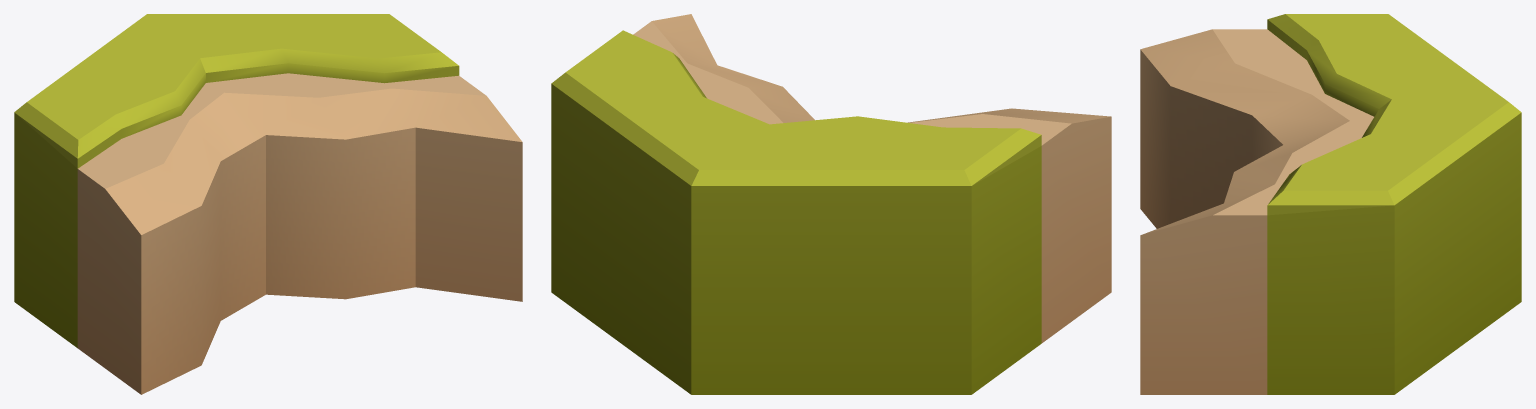
The model's file is hex_coast_B_waterless.glb.
3 renders of one model, left to right at view 1: azimuth 30°, elevation 25°; view 2: azimuth 150°, elevation 25°; view 3: azimuth 270°, elevation 25°, orthographic. The views are drawn at different scales.
Parts seen in each view (by area): view 1: hex_coast_B_waterless; view 2: hex_coast_B_waterless; view 3: hex_coast_B_waterless.
Part boxes in pixels (<box>): hex_coast_B_waterless: <box>14,14,522,394</box>; hex_coast_B_waterless: <box>551,14,1111,394</box>; hex_coast_B_waterless: <box>1140,14,1521,394</box>.
Size of the model in its own units: 9.6 by 4.8 by 8.31.
Materials: 1 (1 with a texture image).
